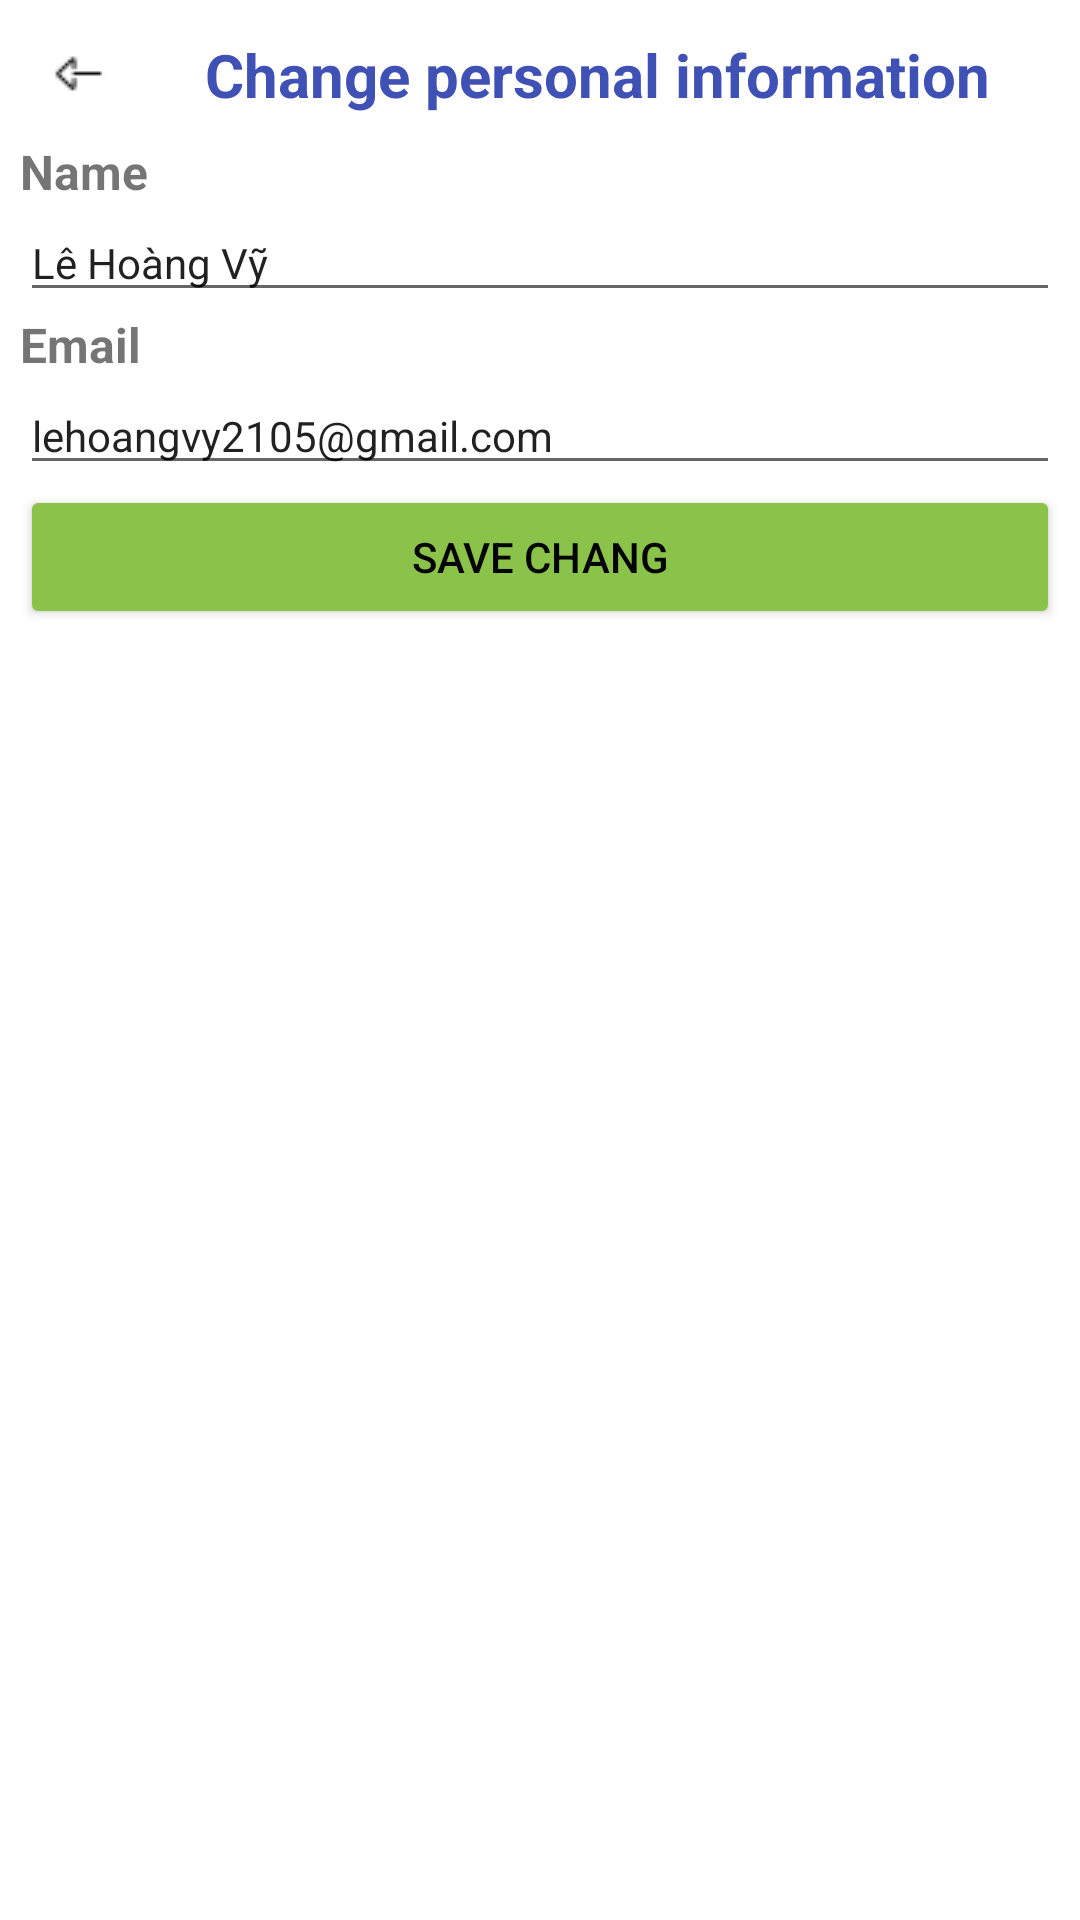

Screen size 1080px x 1920px. Icon name, then its box in pixels as [x1, y1, x2, y2]:
back: [55, 56, 102, 91]
